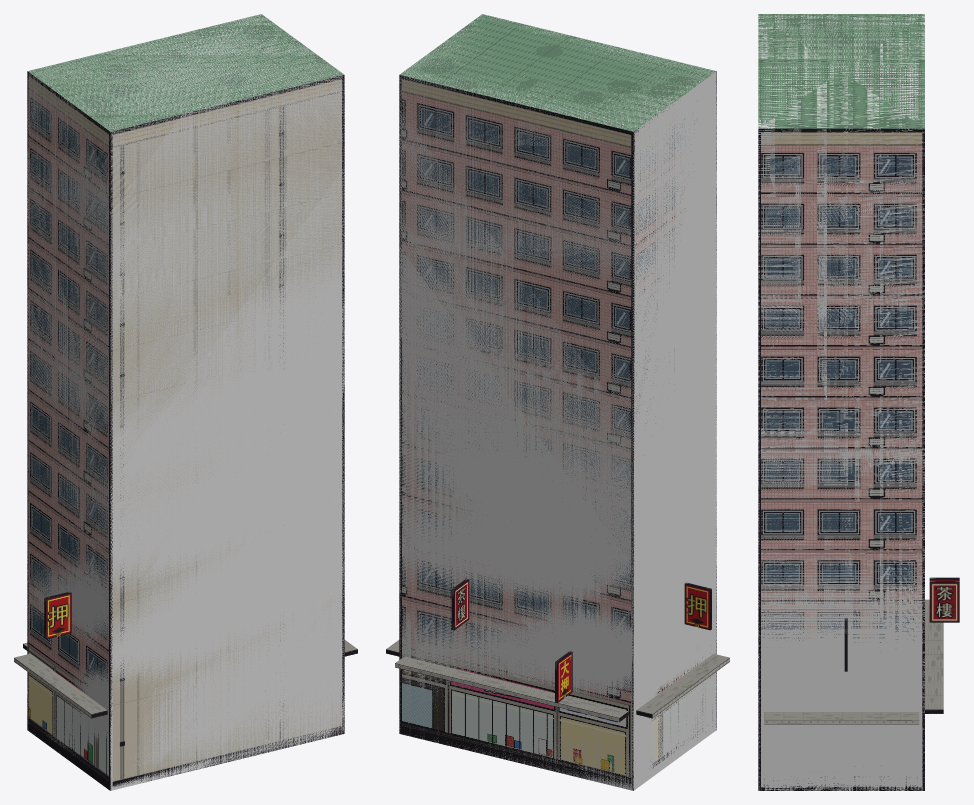
The picture shows the model from 3 angles, left to right: view 1: azimuth 30°, elevation 25°; view 2: azimuth 150°, elevation 25°; view 3: azimuth 270°, elevation 25°; orthographic projection.
Parts seen in each view (by area): view 1: COL_19D-W06_0, 19D-W06; view 2: COL_19D-W06_0, 19D-W06; view 3: 19D-W06, COL_19D-W06_0.
Boxes of the visible parts, bbox=[...] form: COL_19D-W06_0: bbox=[27, 14, 344, 790]; 19D-W06: bbox=[14, 14, 357, 790]; COL_19D-W06_0: bbox=[399, 15, 716, 790]; 19D-W06: bbox=[386, 14, 729, 790]; 19D-W06: bbox=[758, 14, 959, 790]; COL_19D-W06_0: bbox=[758, 14, 924, 790].
Bounding box in the file's own units: 18.2 × 39 × 10.75.
1 material, 1 textured.
